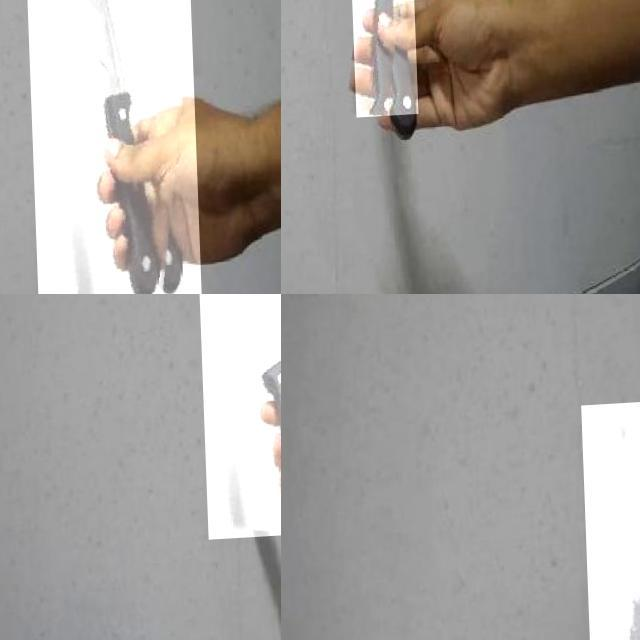-: (22, 0, 197, 294), (196, 294, 281, 543), (580, 404, 640, 640), (345, 0, 415, 144)
